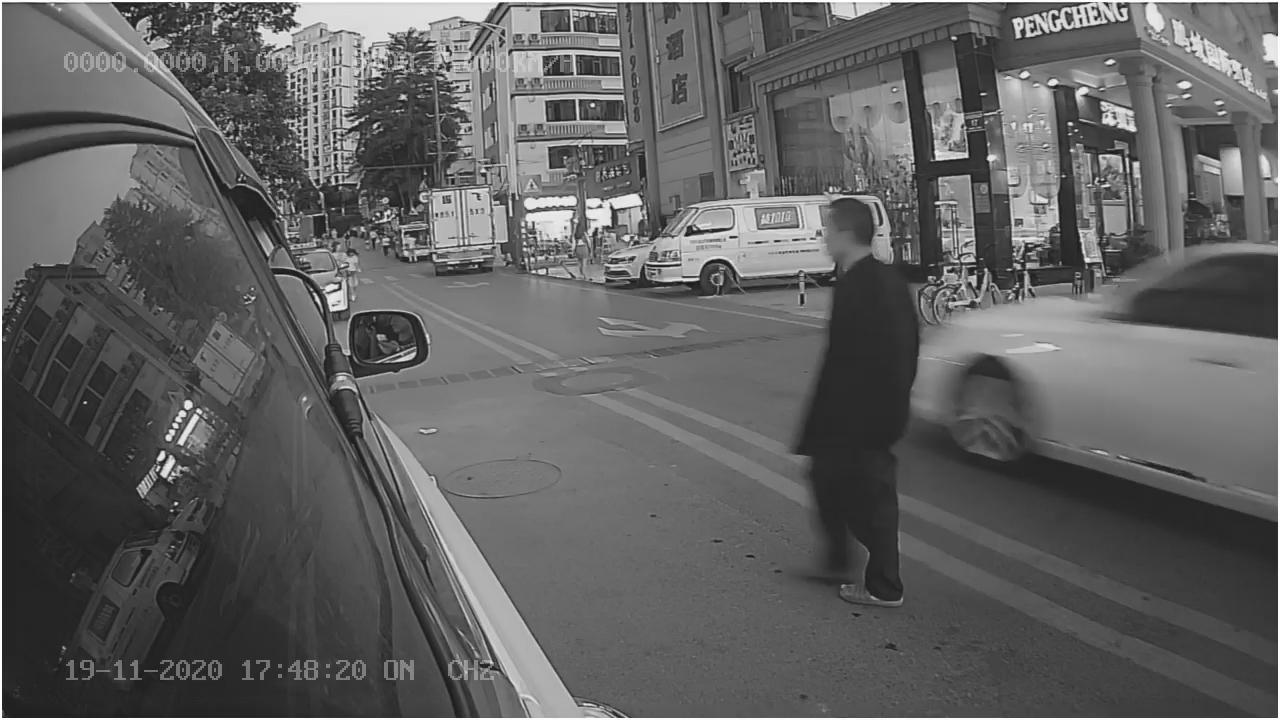person: (783, 198, 930, 614)
